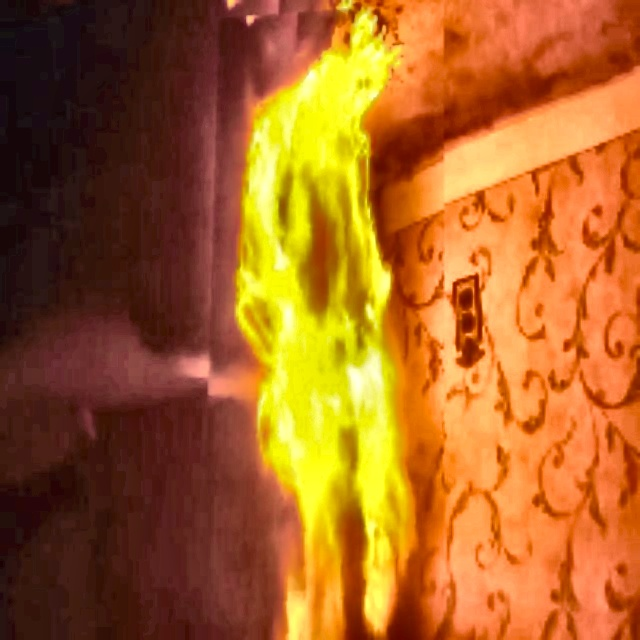fire: (227, 56, 437, 639)
